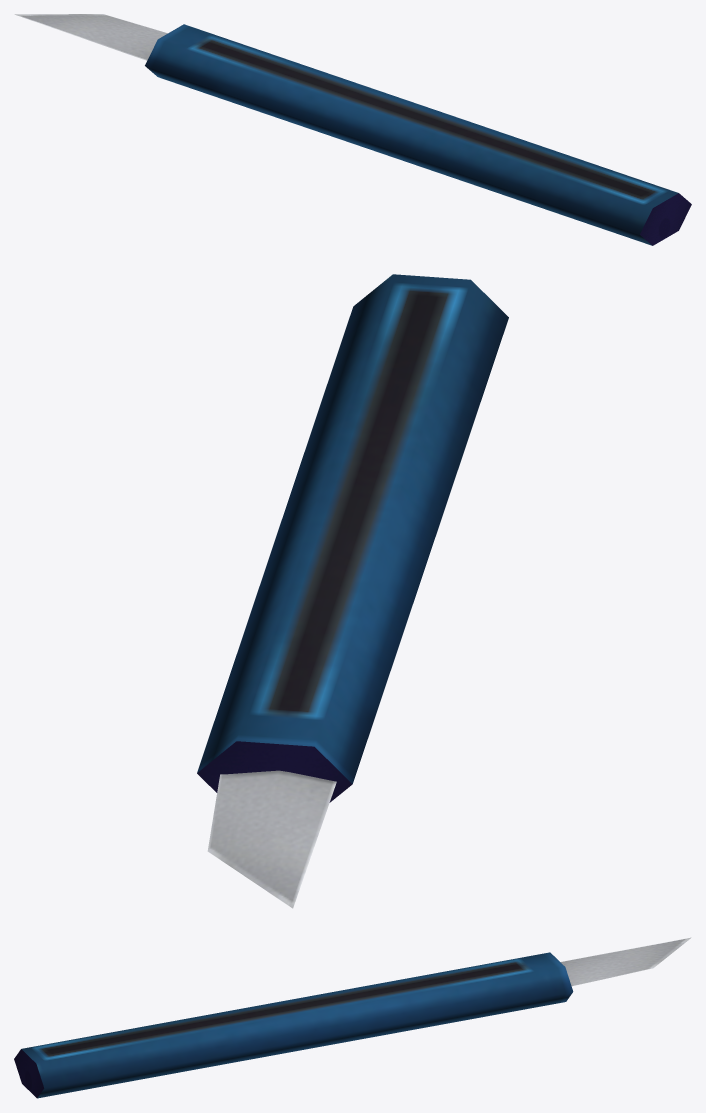
Rendered from ShaShouJia_01_diaokedao_01.FBX.
3 views of the same model, one above another, from view 1: azimuth 30°, elevation 25°; view 2: azimuth 150°, elevation 25°; view 3: azimuth 270°, elevation 25° (orthographic). The views are drawn at different scales.
Visible parts, largest first — view 1: ShaShouJia_01_diaokedao_01; view 2: ShaShouJia_01_diaokedao_01; view 3: ShaShouJia_01_diaokedao_01.
Boxes of the visible parts, x1,y1,x2,y2 form: ShaShouJia_01_diaokedao_01: (14,14,691,245); ShaShouJia_01_diaokedao_01: (197,274,508,908); ShaShouJia_01_diaokedao_01: (14,937,691,1098).
Size of the model in its own units: 64.15 by 8.56 by 128.
